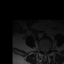CCS_normal: (44, 47, 46, 55)
LFS_normal: (48, 46, 49, 52)
LLS_normal: (46, 47, 48, 53)
RFS_normal: (41, 46, 42, 52)
RLS_normal: (42, 47, 44, 53)
